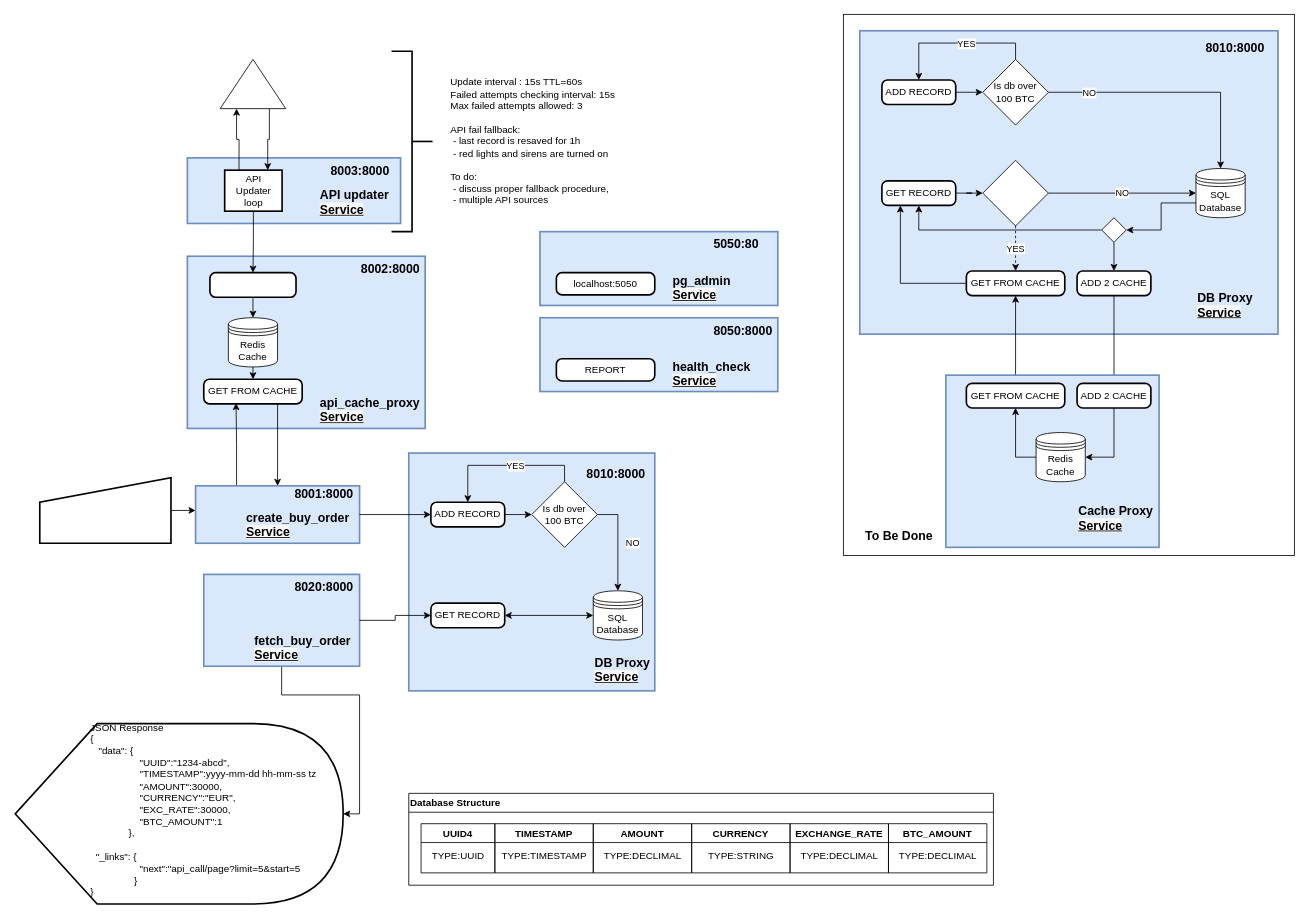
This 1309x919 diagram has some shape labels left out. The centre of each missing label's shape, as x and y in pixels:
ADD TO CACHE: the point at 252,284
API: the point at 252,84
Currency(USD,EUR,GBP) Amount(Declimal): the point at 105,510
Is in cache?: the point at 1015,192
